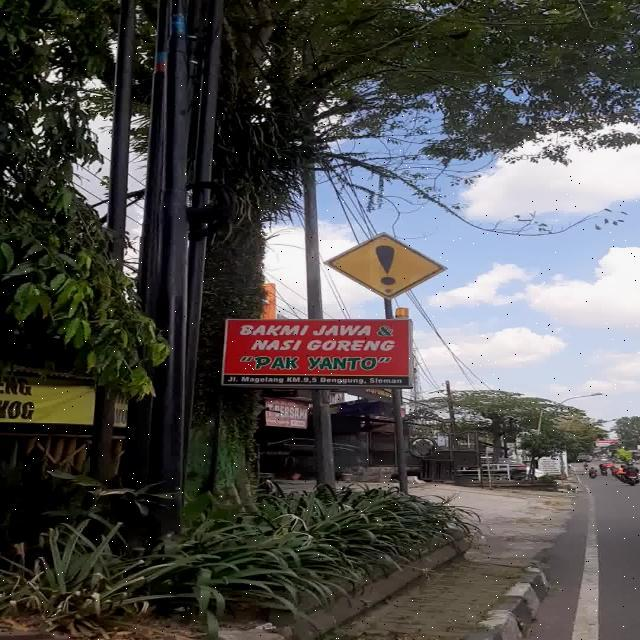Hati-Hati: (324, 232, 447, 300)
